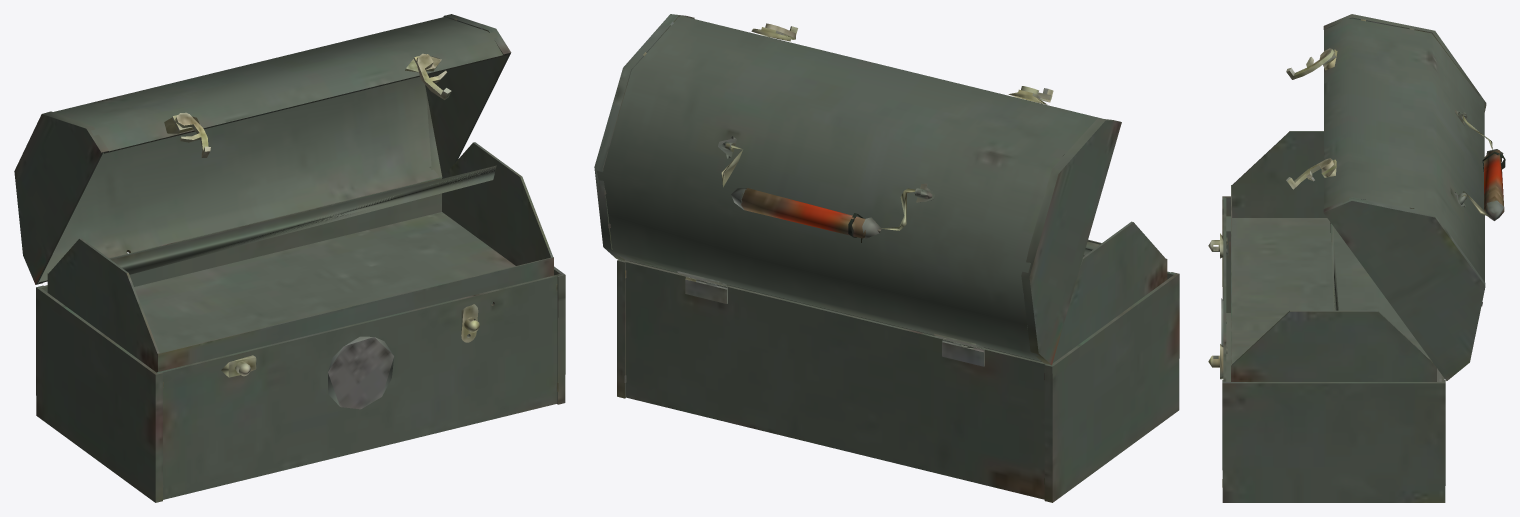
File: metal_toolbox.glb
The picture shows the model from 3 angles, left to right: view 1: azimuth 30°, elevation 25°; view 2: azimuth 150°, elevation 25°; view 3: azimuth 270°, elevation 25°; orthographic projection. The views are drawn at different scales.
Parts seen in each view (by area): view 1: Cylinder.015, metal_toolbox, metal_toolbox_tray, metal_toolbox_handle_latch_r, metal_toolbox_handle_latch_l; view 2: Cylinder.015, metal_toolbox, metal_toolbox_tray, metal_toolbox_handle; view 3: Cylinder.015, metal_toolbox_tray, metal_toolbox, metal_toolbox_handle, metal_toolbox_handle_latch_l, metal_toolbox_handle_latch_r.
Boxes of the visible parts, x1,y1,x2,y2 form: Cylinder.015: [14, 14, 511, 284]; metal_toolbox: [36, 266, 565, 502]; metal_toolbox_tray: [47, 142, 553, 372]; metal_toolbox_handle_latch_r: [416, 53, 451, 99]; metal_toolbox_handle_latch_l: [175, 112, 210, 157]; Cylinder.015: [594, 14, 1121, 365]; metal_toolbox: [617, 259, 1179, 502]; metal_toolbox_tray: [629, 221, 1167, 363]; metal_toolbox_handle: [721, 145, 915, 242]; Cylinder.015: [1321, 14, 1486, 380]; metal_toolbox_tray: [1231, 131, 1436, 381]; metal_toolbox: [1208, 196, 1445, 502]; metal_toolbox_handle: [1462, 115, 1505, 220]; metal_toolbox_handle_latch_l: [1286, 48, 1334, 79]; metal_toolbox_handle_latch_r: [1286, 158, 1333, 189].
Bounding box in the file's own units: 0.4 × 0.3047 × 0.2692.
Materials: 1 (1 with a texture image).
